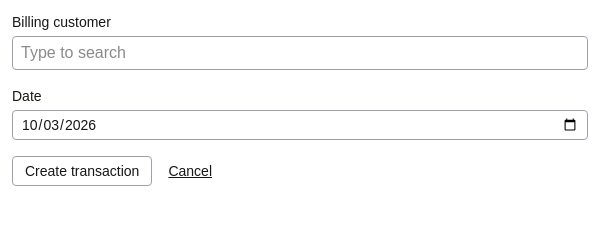
it: creating a transaction › maps a date the backend refuses onto the date control
The width and height of the screenshot is (605, 227).
Click the dropdown.
click(300, 53)  # box [12,36,588,70]
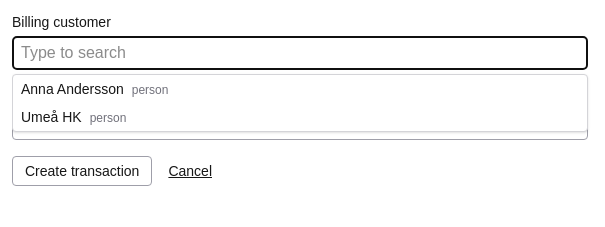
Click the option "Anna".
click(95, 89)  # box [21,81,168,97]
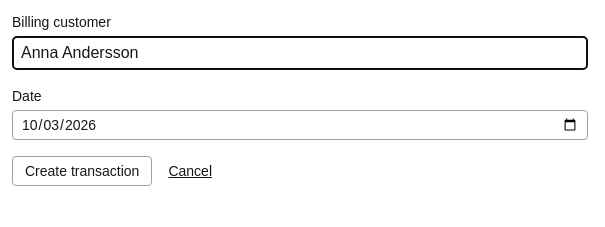
Click the button with test id "submit".
click(82, 171)  # box [12,156,152,186]
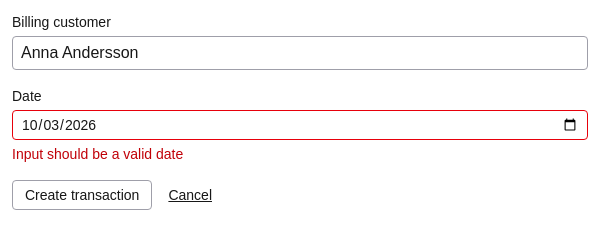
Result: the text with test id "error-transaction_date" shows "valid date" at [12,146,183,162]
